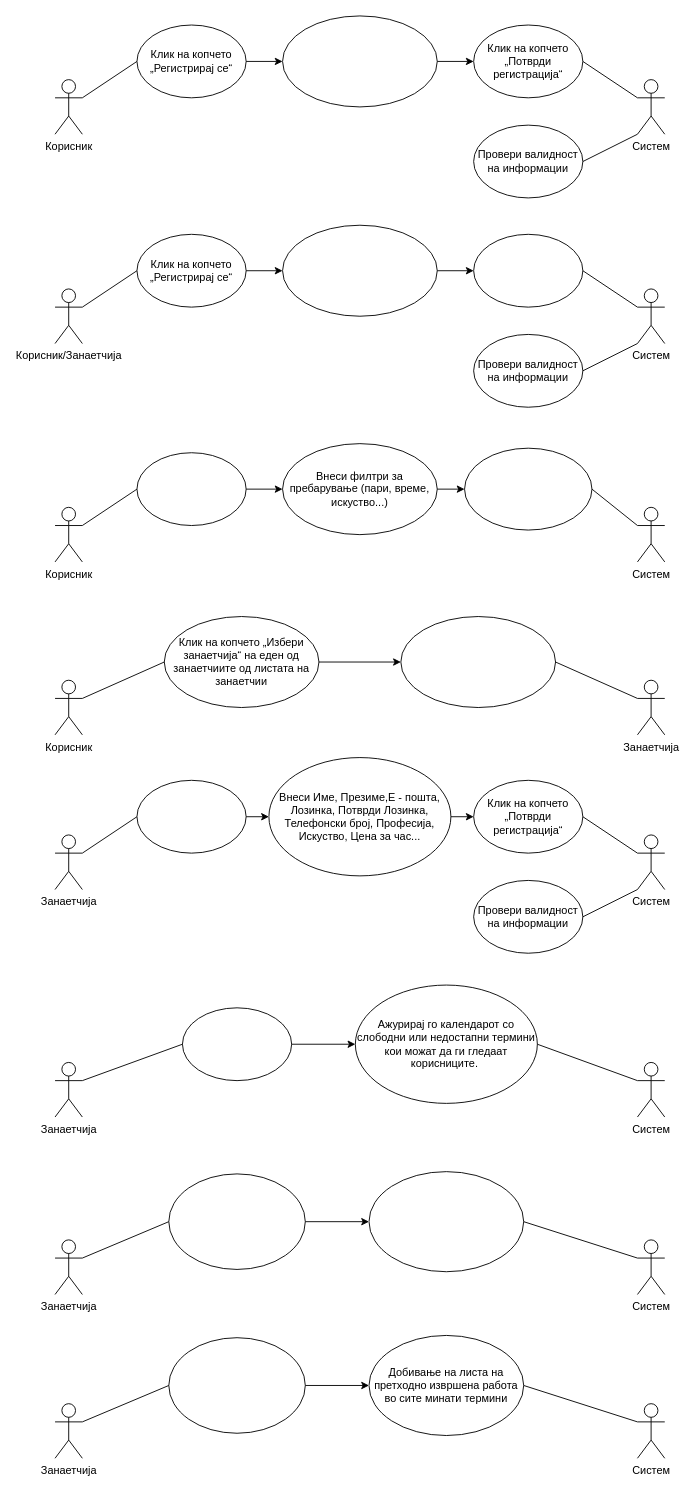
Image size: 694x1493. Some labels were removed from this diagram. Each missing label, with the centre of its shape:
"Внеси Е-Пошта и лозинка" goes at point 359,270.
"Внеси Име, Презиме,Е - пошта, Лозинка, Потврди Лозинка, Телефонски број" goes at point 359,61.
"Добивање на листа на соодветни занаетчии" goes at point 528,488.
"Испратено барање до занаетчијата" goes at point 478,662.
"Клик на копчето „Најава“" goes at point 528,270.
"Клик на копчето „Пребарај занаетчија“" goes at point 191,489.
"Клик на копчето „Регистрирај се како занаетчија“" goes at point 191,816.
"Клик на копчето „Уреди календар“" goes at point 237,1044.
"Клик на „Историја на термини“" goes at point 236,1385.
"Одбиј или прифати барање за термин од страна на корисник" goes at point 446,1221.
"Преглед на барања за термини испратени од страна на корисници" goes at point 236,1221.
